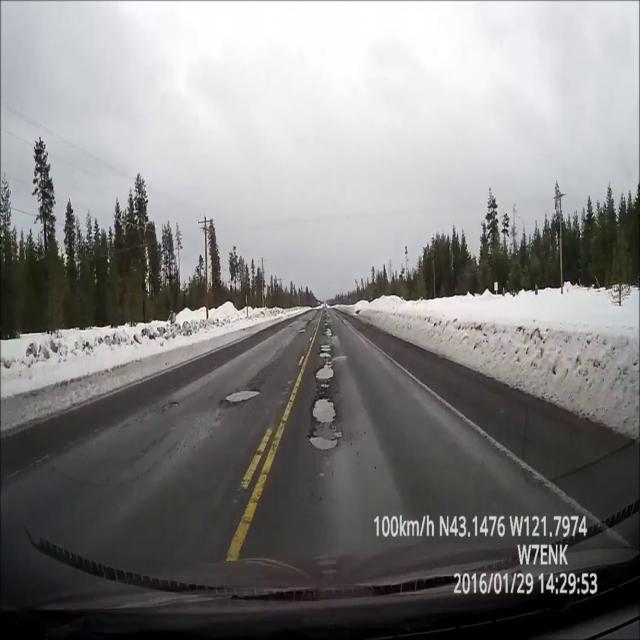Pothole: (312, 396, 337, 424), (308, 430, 342, 450), (225, 388, 260, 403), (315, 364, 335, 380), (320, 343, 330, 358), (163, 402, 179, 408), (323, 327, 333, 336), (298, 328, 305, 334), (324, 323, 328, 325)
